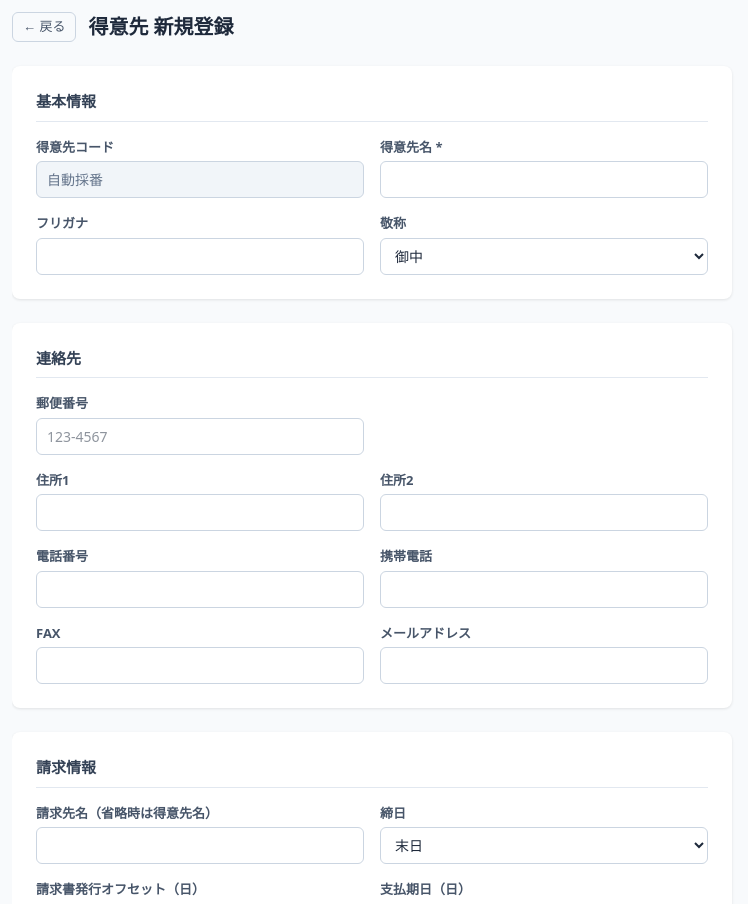
R-0179 似た得意先の案内 › 候補件数を入力欄の近くに表示し、押すと一覧へスクロールする。0件なら消える
Type "山田工務店" into the field named "name" below "得意先名 *" at (544, 180), box [380, 161, 708, 198]
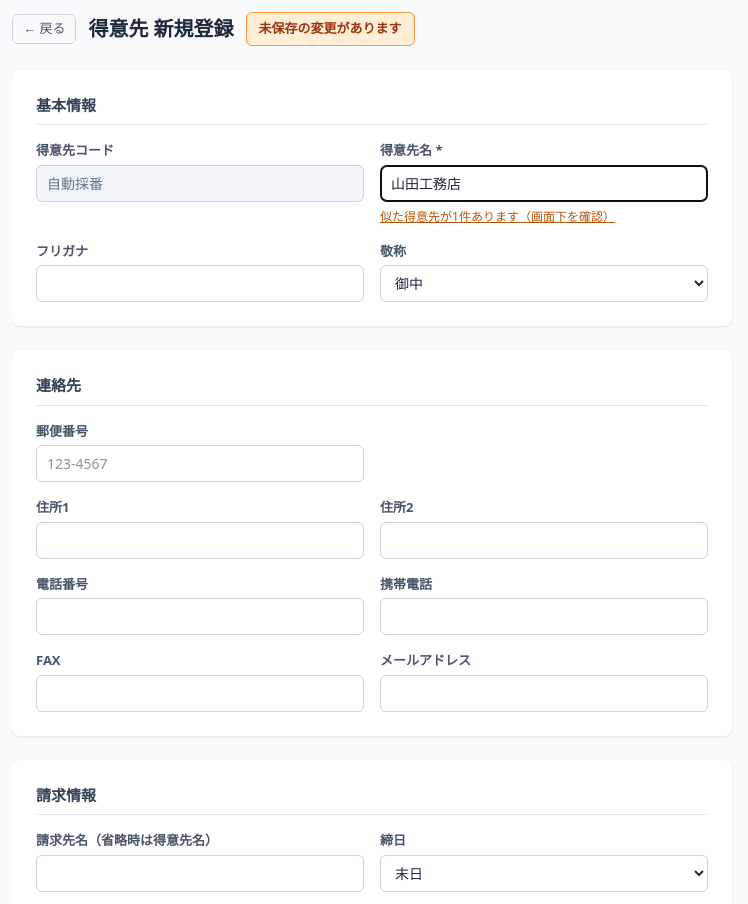
Click the button "似た得意先が1件あります（画面下を確認）" at (497, 216), box [380, 208, 615, 226]
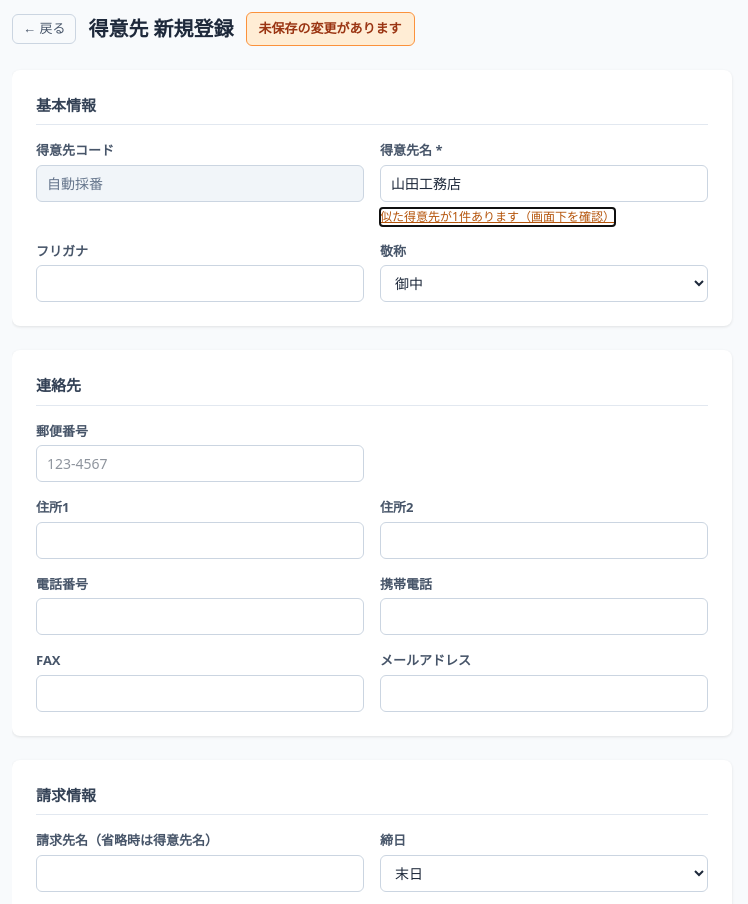
Replace the text in the field named "name" below "得意先名 *" with "別の得意先" at (544, 183), box [380, 164, 708, 202]
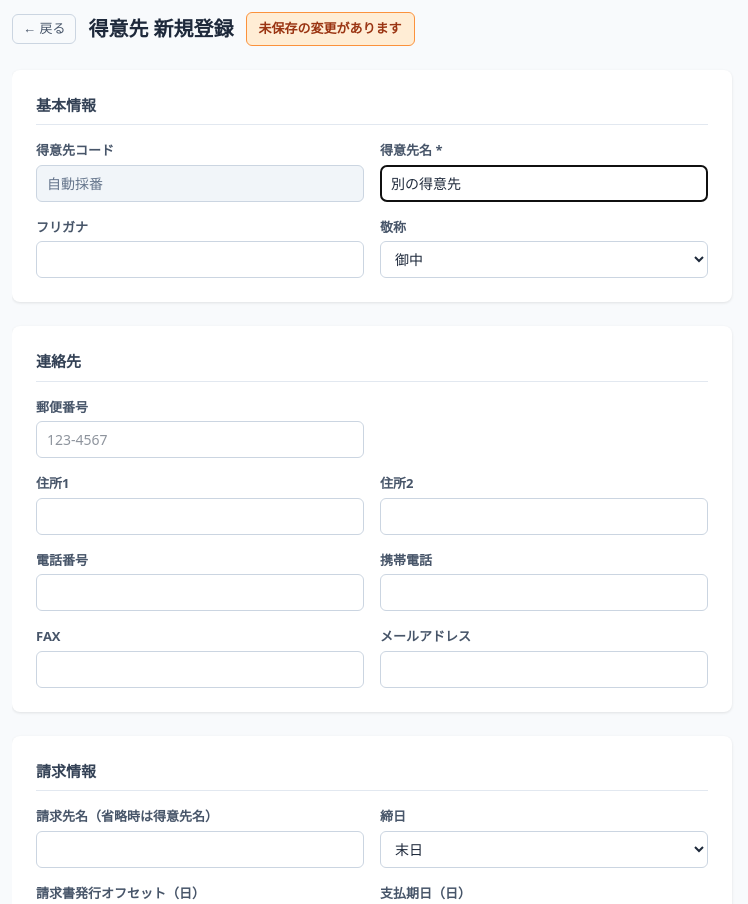
expect the button "似た得意先が" is gone: met
